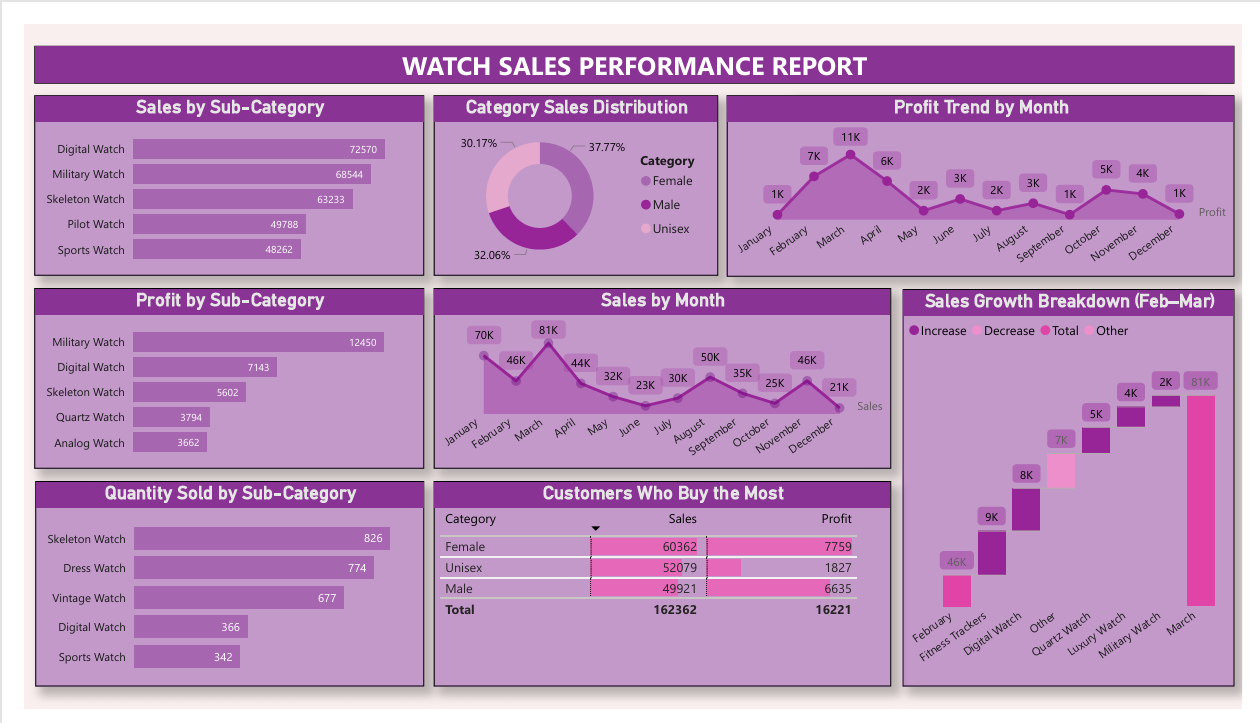

The dashboard page shown, as its layout file describes it:
{"tool":"powerbi","page":{"name":"Sales Vs Profit","canvas":[1280,720],"ordinal":1},"visuals":[{"type":"clusteredBarChart","title":"Sales by Sub-Category","fields":{"Category":["Details_1.Sub-Category"],"Y":["Sum(Details_1.Amount)"]},"box":[10,74.3,410,190],"z":0},{"type":"clusteredBarChart","title":"Profit by Sub-Category","fields":{"Category":["Details_1.Sub-Category"],"Y":["Sum(Details_1.Profit)"]},"box":[10,277.1,410,190],"z":1000},{"type":"clusteredBarChart","title":"Quantity Sold by Sub-Category","fields":{"Category":["Details_1.Sub-Category"],"Y":["Sum(Details_1.Quantity)"]},"box":[11.4,480,408.6,215.7],"z":2000},{"type":"donutChart","title":"Category Sales Distribution","fields":{"Category":["Details_1.Category"],"Y":["Sum(Details_1.Amount)"]},"box":[430,74.3,298.6,190],"z":3000},{"type":"tableEx","title":"Product Performance Summary","fields":{"Values":["Sum(Details_1.Amount)","Sum(Details_1.Profit)"]},"box":[804.4,73.9,430.9,160.5],"z":4000},{"type":"lineChart","title":"Profit Trend by Month","fields":{"Category":["Orders_1.Order Date.Variation.Date Hierarchy.Month"],"Y":["Sum(Details_1.Profit)"]},"box":[738.2,73.9,534,190.6],"z":5000},{"type":"lineChart","title":"Sales by Month","fields":{"Category":["Orders_1.Order Date.Variation.Date Hierarchy.Month"],"Y":["Sum(Details_1.Amount)"]},"box":[429.9,277.2,481.5,189.7],"z":6000},{"type":"waterfallChart","title":"Sales Growth Breakdown (Feb–Mar)","fields":{"Category":["Orders_1.Order Date.Variation.Date Hierarchy.Month"],"Breakdown":["Details_1.Sub-Category"],"Y":["Sum(Details_1.Amount)"]},"box":[923,278.2,349.2,418.2],"z":7000},{"type":"shape","box":[9.7,22.4,1262.5,39.9],"z":8000},{"type":"tableEx","title":"Customers Who Buy the Most","fields":{"Values":["Details_1.Category","Sum(Details_1.Amount)","Sum(Details_1.Profit)"]},"box":[429.9,480.5,481.5,215.9],"z":9000}]}

Visuals, with their boxes in screenshot pixels (x1, y1, x2, y2), scaled from the page's 1280x720 canvas onto the 1260x723 screenshot:
"Sales by Sub-Category" clusteredBarChart: detection(10, 75, 413, 265)
"Profit by Sub-Category" clusteredBarChart: detection(10, 278, 413, 469)
"Quantity Sold by Sub-Category" clusteredBarChart: detection(11, 482, 413, 699)
"Category Sales Distribution" donutChart: detection(423, 75, 717, 265)
"Product Performance Summary" tableEx: detection(792, 74, 1216, 235)
"Profit Trend by Month" lineChart: detection(727, 74, 1252, 266)
"Sales by Month" lineChart: detection(423, 278, 897, 469)
"Sales Growth Breakdown (Feb–Mar)" waterfallChart: detection(909, 279, 1252, 699)
shape: detection(10, 22, 1252, 63)
"Customers Who Buy the Most" tableEx: detection(423, 483, 897, 699)
